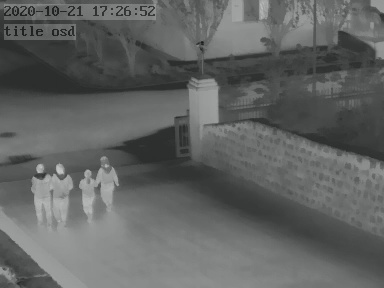person: (31, 163, 52, 230), (52, 162, 73, 225), (97, 157, 121, 212), (79, 165, 96, 220)
